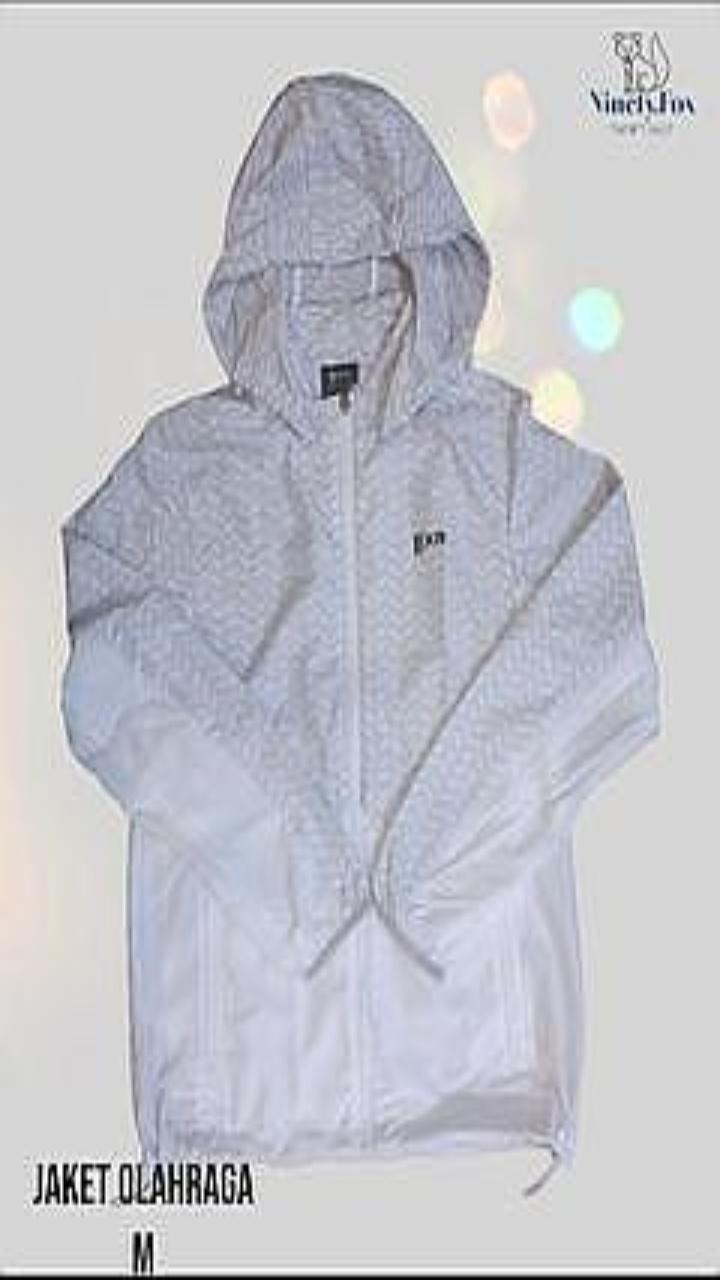Sports_Jacket: (62, 72, 659, 1172)
